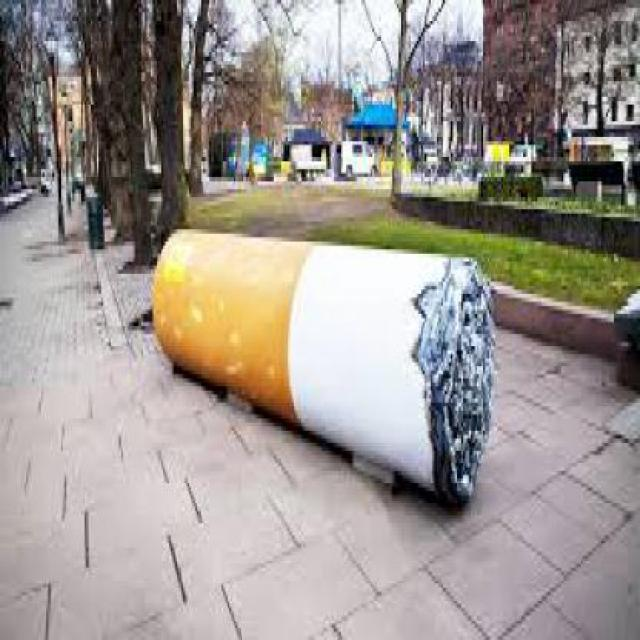cigarette: (147, 229, 507, 511)
